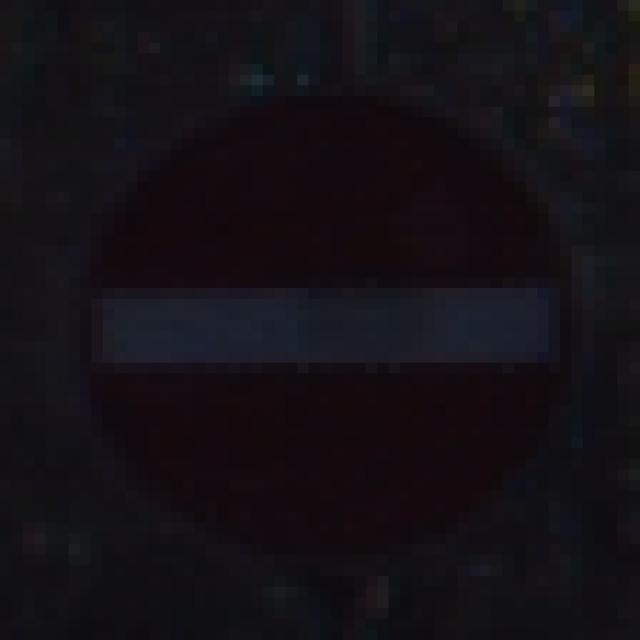No Entry: (58, 65, 584, 588)
